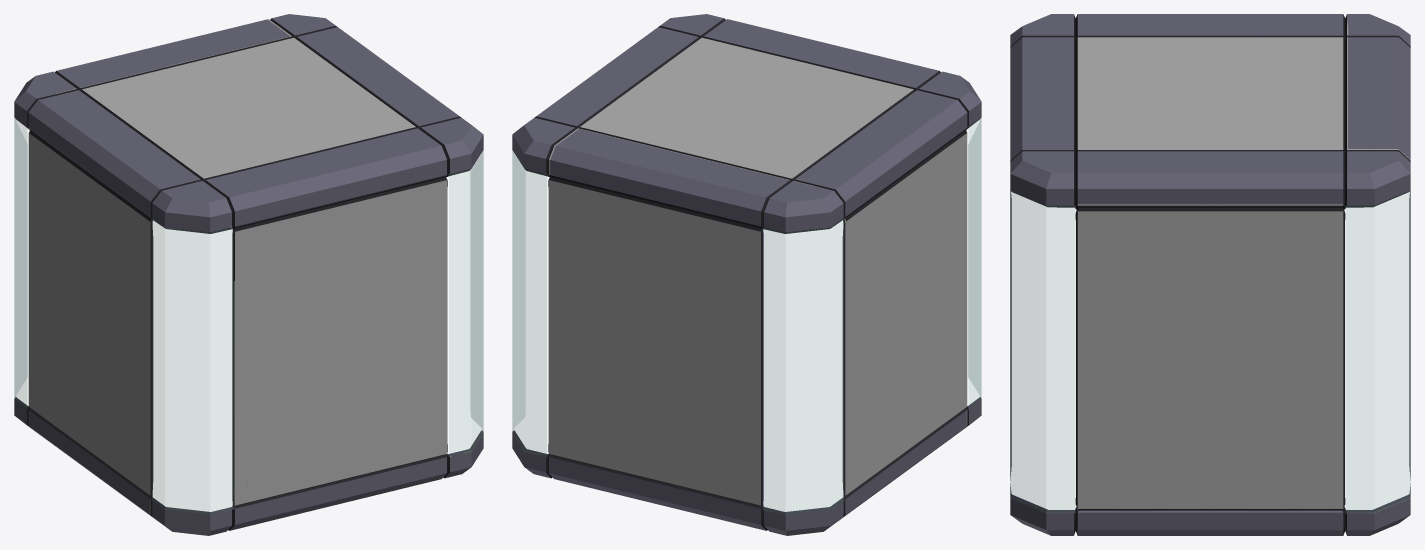
3 renders of one model, left to right at view 1: azimuth 30°, elevation 25°; view 2: azimuth 150°, elevation 25°; view 3: azimuth 270°, elevation 25°, orthographic. The views are drawn at different scales.
Visible parts, largest first — view 1: Cube; view 2: Cube; view 3: Cube.
Part boxes in pixels (x1,y1,x2,y2): Cube: (14,14,483,535); Cube: (512,14,981,535); Cube: (1010,14,1410,535).
Bounding box in the file's own units: 1 × 1 × 1.
3 materials, 1 textured.
